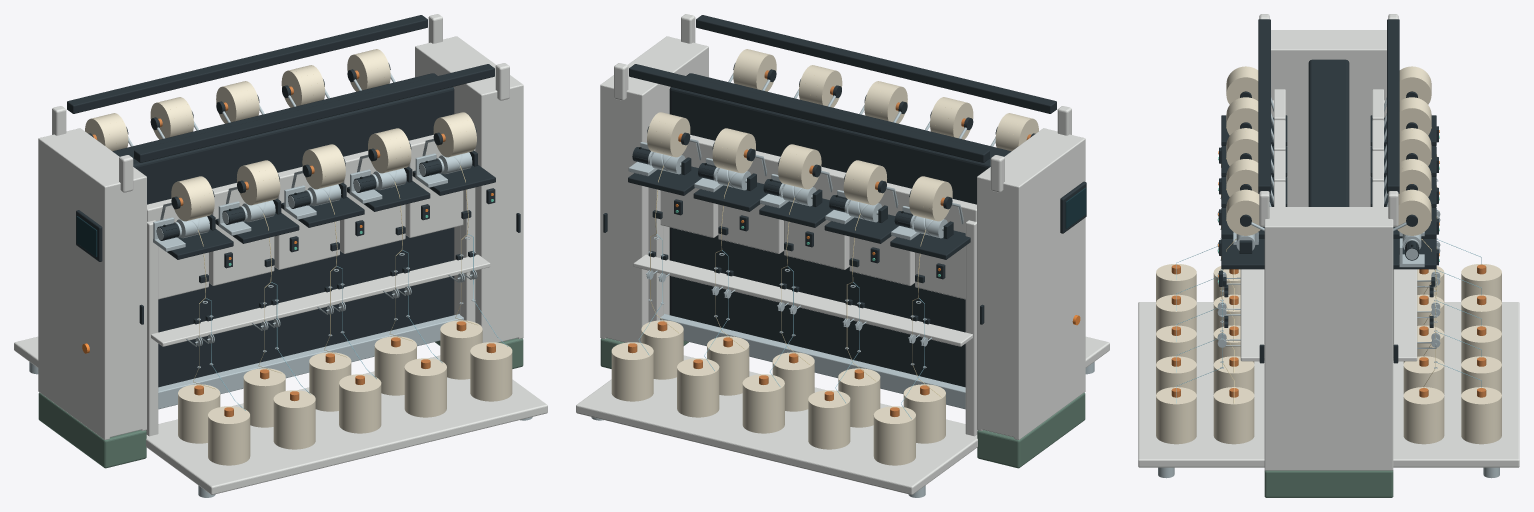
The model's file is assembly_winding.glb.
3 renders of one model, left to right at view 1: azimuth 30°, elevation 25°; view 2: azimuth 150°, elevation 25°; view 3: azimuth 270°, elevation 25°, orthographic. The views are drawn at different scales.
Parts seen in each view (by area): view 1: CWXD_spine, CWXD_end_cabinet_end, CWXD_creel_floor, CWXD_end_cabinet_door, CWXD_end_cabinet_door.002, CWXD_top_rail.001, CWXD_top_rail, CWXD_tension_shelf, CWXD_lower_beam, CWXD_end_cabinet_end.002, CWXD_end_cabinet_plinth, CWXD_unit_back.001 (+36 smaller); view 2: CWXD_spine, CWXD_end_cabinet_end, CWXD_creel_floor.001, CWXD_end_cabinet_door.001, CWXD_end_cabinet_door.003, CWXD_top_rail, CWXD_top_rail.001, CWXD_tension_shelf.001, CWXD_lower_beam.001, CWXD_end_cabinet_end.002, CWXD_end_cabinet_plinth, CWXD_unit_back.007 (+36 smaller); view 3: CWXD_end_cabinet_end.003, CWXD_creel_floor, CWXD_creel_floor.001, CWXD_end_cabinet_end.001, CWXD_spine, CWXD_end_cabinet_plinth.001, CWXD_end_cabinet_roof.001, CWXD_end_cabinet_roof, CWXD_tension_shelf, CWXD_tension_shelf.001, CWXD_top_rail, CWXD_top_rail.001 (+32 smaller).
Boxes of the visible parts, box(x1,y1,x2,y2) form: CWXD_spine: box(112, 73, 454, 387); CWXD_end_cabinet_end: box(38, 137, 109, 439); CWXD_creel_floor: box(146, 355, 547, 494); CWXD_end_cabinet_door: box(106, 180, 145, 437); CWXD_end_cabinet_door.002: box(483, 88, 521, 342); CWXD_top_rail.001: box(67, 15, 427, 113); CWXD_top_rail: box(134, 64, 494, 162); CWXD_tension_shelf: box(151, 254, 490, 346); CWXD_lower_beam: box(158, 314, 463, 409); CWXD_end_cabinet_end.002: box(415, 45, 485, 342); CWXD_end_cabinet_plinth: box(38, 392, 146, 468); CWXD_unit_back.001: box(209, 183, 274, 285); CWXD_spine: box(669, 73, 1011, 387); CWXD_end_cabinet_end: box(1014, 137, 1085, 439); CWXD_creel_floor.001: box(576, 355, 977, 494); CWXD_end_cabinet_door.001: box(978, 180, 1017, 437); CWXD_end_cabinet_door.003: box(602, 88, 640, 342); CWXD_top_rail: box(696, 15, 1056, 113); CWXD_top_rail.001: box(629, 64, 989, 162); CWXD_tension_shelf.001: box(633, 254, 972, 346); CWXD_lower_beam.001: box(660, 314, 965, 409); CWXD_end_cabinet_end.002: box(638, 45, 708, 342); CWXD_end_cabinet_plinth: box(977, 392, 1085, 468); CWXD_unit_back.007: box(784, 166, 849, 269); CWXD_end_cabinet_end.003: box(1264, 224, 1393, 470); CWXD_creel_floor: box(1138, 302, 1264, 467); CWXD_creel_floor.001: box(1393, 302, 1519, 467); CWXD_end_cabinet_end.001: box(1271, 47, 1386, 206); CWXD_spine: box(1308, 59, 1349, 206); CWXD_end_cabinet_plinth.001: box(1264, 470, 1393, 497); CWXD_end_cabinet_roof.001: box(1264, 207, 1393, 232); CWXD_end_cabinet_roof: box(1271, 30, 1386, 55); CWXD_tension_shelf: box(1240, 269, 1264, 361); CWXD_tension_shelf.001: box(1393, 269, 1417, 361); CWXD_top_rail: box(1258, 19, 1270, 193); CWXD_top_rail.001: box(1387, 19, 1399, 193).
Bounding box in the file's own units: 2.79 × 1.94 × 2.25.
